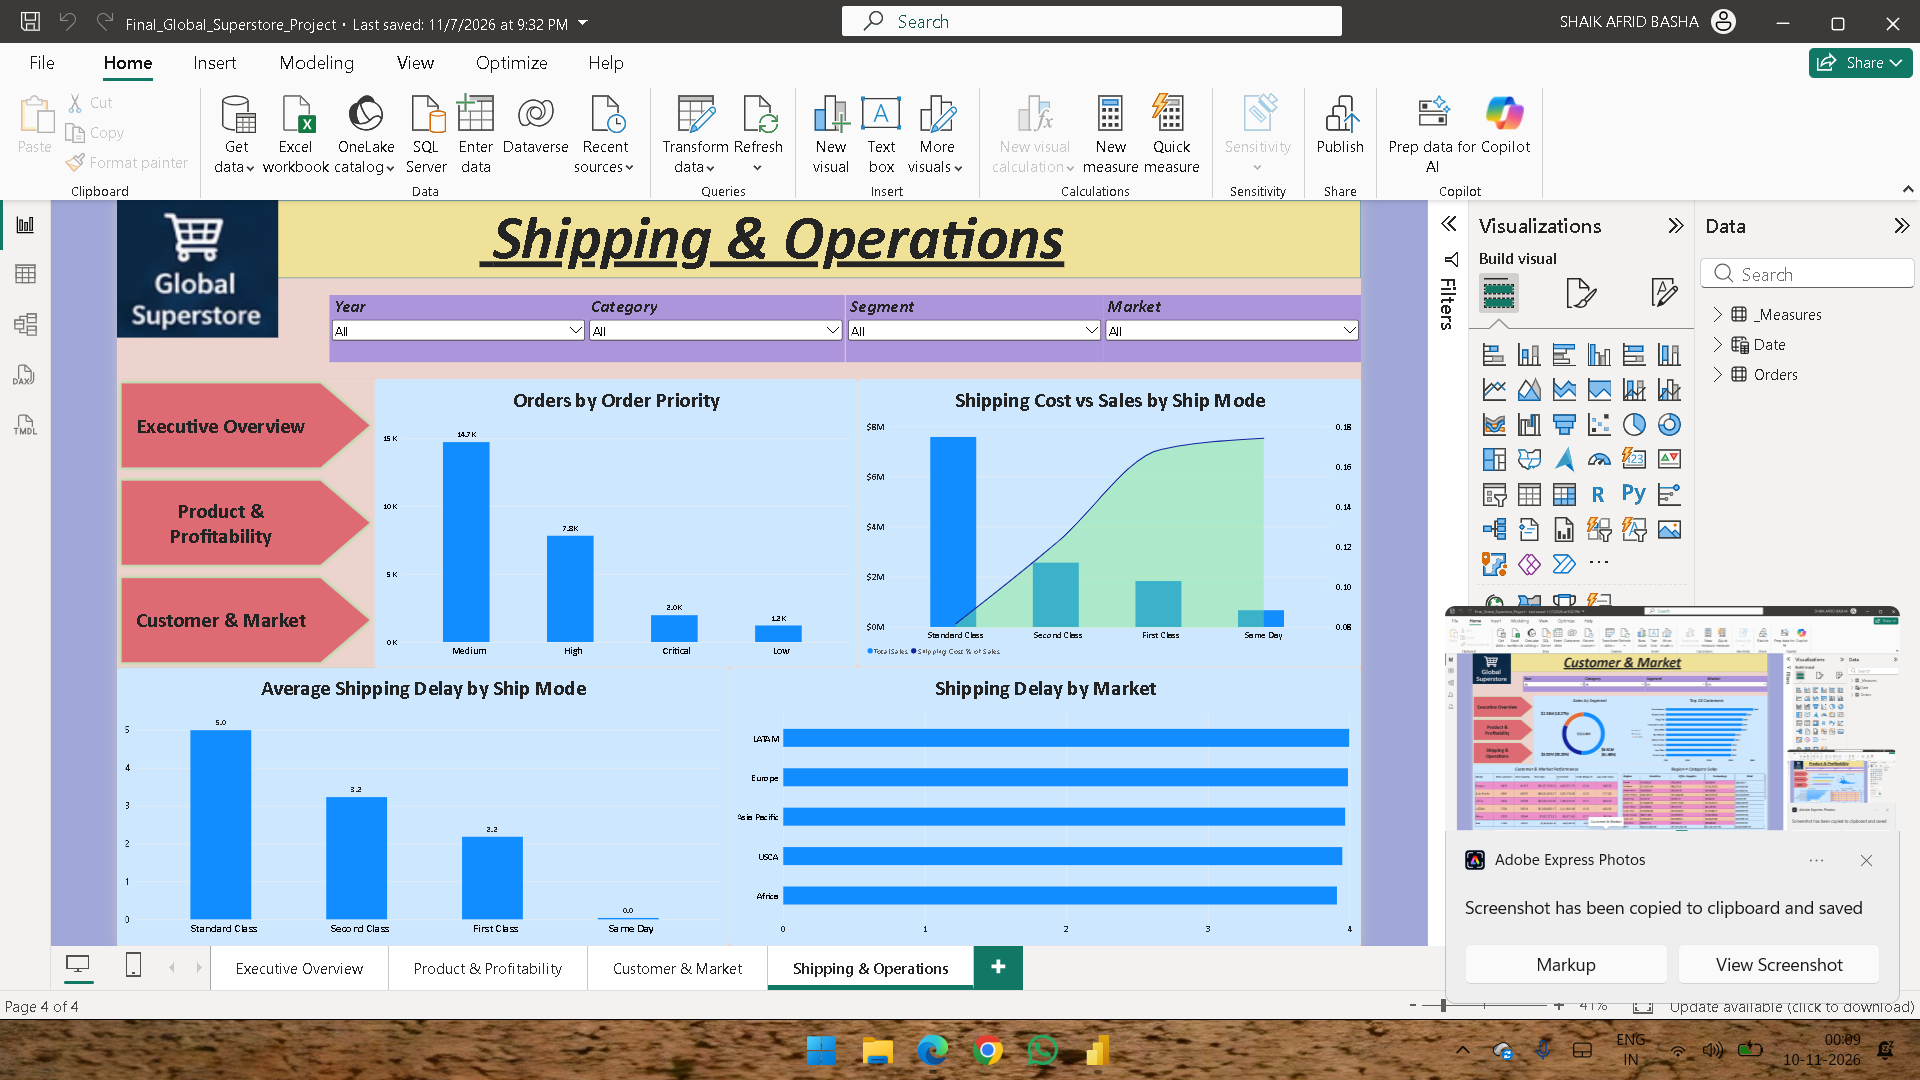

This screenshot's page, from the dashboard's own definition file:
{"tool":"powerbi","page":{"name":"Shipping & Operations","canvas":[2400,1440],"ordinal":3},"visuals":[{"type":"clusteredColumnChart","title":"Average Shipping Delay by Ship Mode","fields":{"Category":["Orders.Ship Mode"],"Y":["_Measures.Avg Shipping Delay (Days)"]},"box":[0,902.9,1181.4,538],"z":0},{"type":"clusteredColumnChart","title":"Orders by Order Priority","fields":{"Category":["Orders.Order Priority"],"Y":["_Measures.Total Orders"]},"box":[497.4,346,932.7,556.9],"z":1000},{"type":"lineClusteredColumnComboChart","title":" Shipping Cost vs Sales by Ship Mode","fields":{"Category":["Orders.Ship Mode"],"Y":["_Measures.Total Sales"],"Y2":["_Measures.Shipping Cost % of Sales"]},"box":[1430.1,346,970.5,556.9],"z":2000},{"type":"clusteredBarChart","title":" Shipping Delay by Market","fields":{"Category":["Orders.Market"],"Y":["_Measures.Avg Shipping Delay (Days)"]},"box":[1181.4,902.9,1219.2,538],"z":3000},{"type":"shape","box":[0,0,2401,151],"z":7000},{"type":"textbox","box":[356.9,0,1814,151.4],"z":8000},{"type":"pageNavigator","box":[0,346,497.4,556.9],"z":9000},{"type":"slicer","fields":{"Values":["Date.Year"]},"box":[410.9,183.8,497.4,129.8],"z":9001},{"type":"slicer","fields":{"Values":["Orders.Category"]},"box":[908.4,183.8,497.4,129.8],"z":9002},{"type":"slicer","fields":{"Values":["Orders.Segment"]},"box":[1405.8,183.8,497.4,129.8],"z":9003},{"type":"slicer","fields":{"Values":["Orders.Market"]},"box":[1902.6,183.8,497.4,129.8],"z":9004},{"type":"image","box":[0,0,311.3,265.4],"z":9005}]}

Visuals, with their boxes on the page's 2400x1440 design canvas (x1, y1, x2, y2). These are canvas units, not pixel positions in the 1920x1080 screenshot, which may show the page scaled, cropped or inside an application window:
"Average Shipping Delay by Ship Mode" clusteredColumnChart: locate(0, 903, 1181, 1441)
"Orders by Order Priority" clusteredColumnChart: locate(497, 346, 1430, 903)
" Shipping Cost vs Sales by Ship Mode" lineClusteredColumnComboChart: locate(1430, 346, 2401, 903)
" Shipping Delay by Market" clusteredBarChart: locate(1181, 903, 2401, 1441)
shape: locate(0, 0, 2401, 151)
textbox: locate(357, 0, 2171, 151)
pageNavigator: locate(0, 346, 497, 903)
slicer - Date.Year: locate(411, 184, 908, 314)
slicer - Orders.Category: locate(908, 184, 1406, 314)
slicer - Orders.Segment: locate(1406, 184, 1903, 314)
slicer - Orders.Market: locate(1903, 184, 2400, 314)
image: locate(0, 0, 311, 265)
